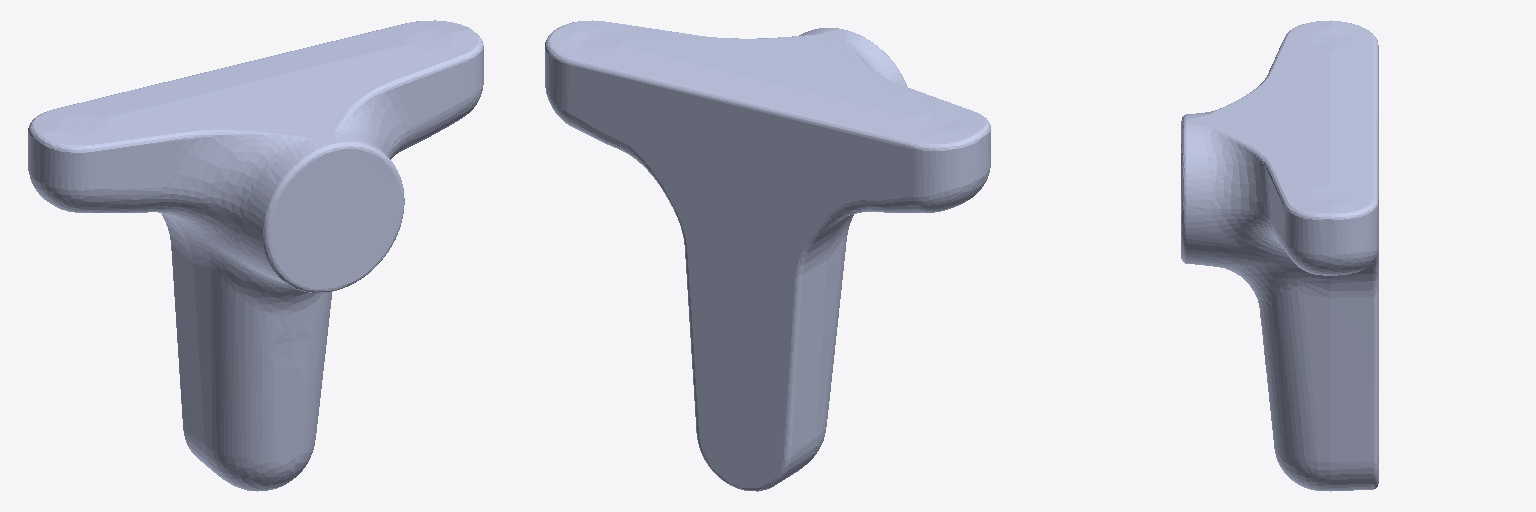
robot.urdf — faucet_T:
<?xml version="1.0" encoding="utf-8"?>
<!-- This URDF was automatically created by SolidWorks to URDF Exporter! Originally created by [author] ([email redacted]) 
     Commit Version: 1.5.1-0-g916b5db  Build Version: 1.5.7152.31018
     For more information, please see http://wiki.ros.org/sw_urdf_exporter -->
<robot
  name="faucet_T">
  <link
    name="faucet_T">
    <inertial>
      <origin
        xyz="0 0 0"
        rpy="0 0 0" />
      <mass
        value="0" />
      <inertia
        ixx="0"
        ixy="0"
        ixz="0"
        iyy="0"
        iyz="0"
        izz="0" />
    </inertial>
    <visual>
      <origin
        xyz="0 0 0"
        rpy="1.5707963267949 0 0" />
      <geometry>
        <mesh
          filename="package://faucet_T/meshes/faucet_T.STL" />
      </geometry>
      <material
        name="">
        <color
          rgba="0.79216 0.81961 0.93333 1" />
        <!-- <texture
          filename="package://faucet_T/textures/" /> -->
      </material>
    </visual>
    <collision>
      <origin
        xyz="0 0 0"
        rpy="1.5707963267949 0 0" />
      <geometry>
        <mesh
          filename="package://faucet_T/meshes/faucet_T.STL" />
      </geometry>
    </collision>
  </link>
</robot>

--- Render facts (derived) ---
3 views of the same robot in one strip: view 1: azimuth 30°, elevation 25°; view 2: azimuth 150°, elevation 25°; view 3: azimuth 270°, elevation 25° (orthographic).
Robot: faucet_T — 1 links, 0 joints (none); root link faucet_T; default pose: all joints at 0.
Links seen in each view (by area): view 1: faucet_T; view 2: faucet_T; view 3: faucet_T.
Boxes of the visible links, x1=… form: faucet_T: x1=28, y1=20, x2=483, y2=491; faucet_T: x1=545, y1=20, x2=990, y2=491; faucet_T: x1=1181, y1=20, x2=1378, y2=491.
Bounding box of the posed robot: 0.1629 × 0.069 × 0.1427 m (x, y, z).
1 mesh visuals loaded from 1 distinct referenced files (1 binary STL).